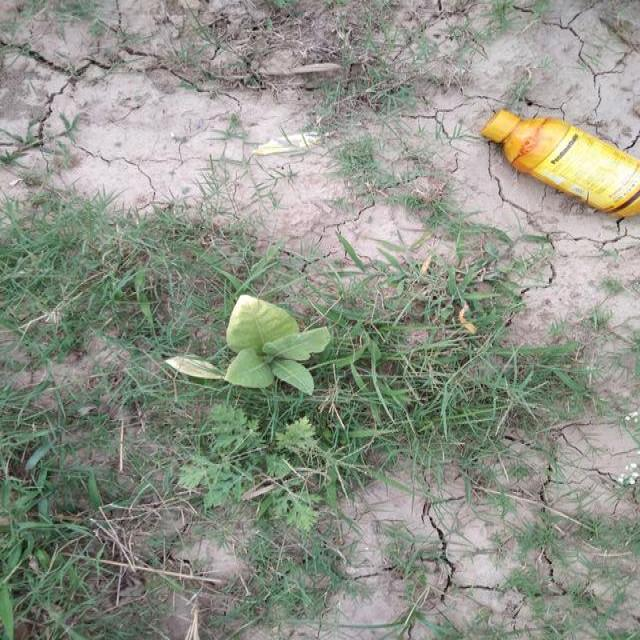crop: (209, 270, 337, 408)
